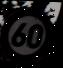Speed Limit -60-: (0, 6, 57, 63)
